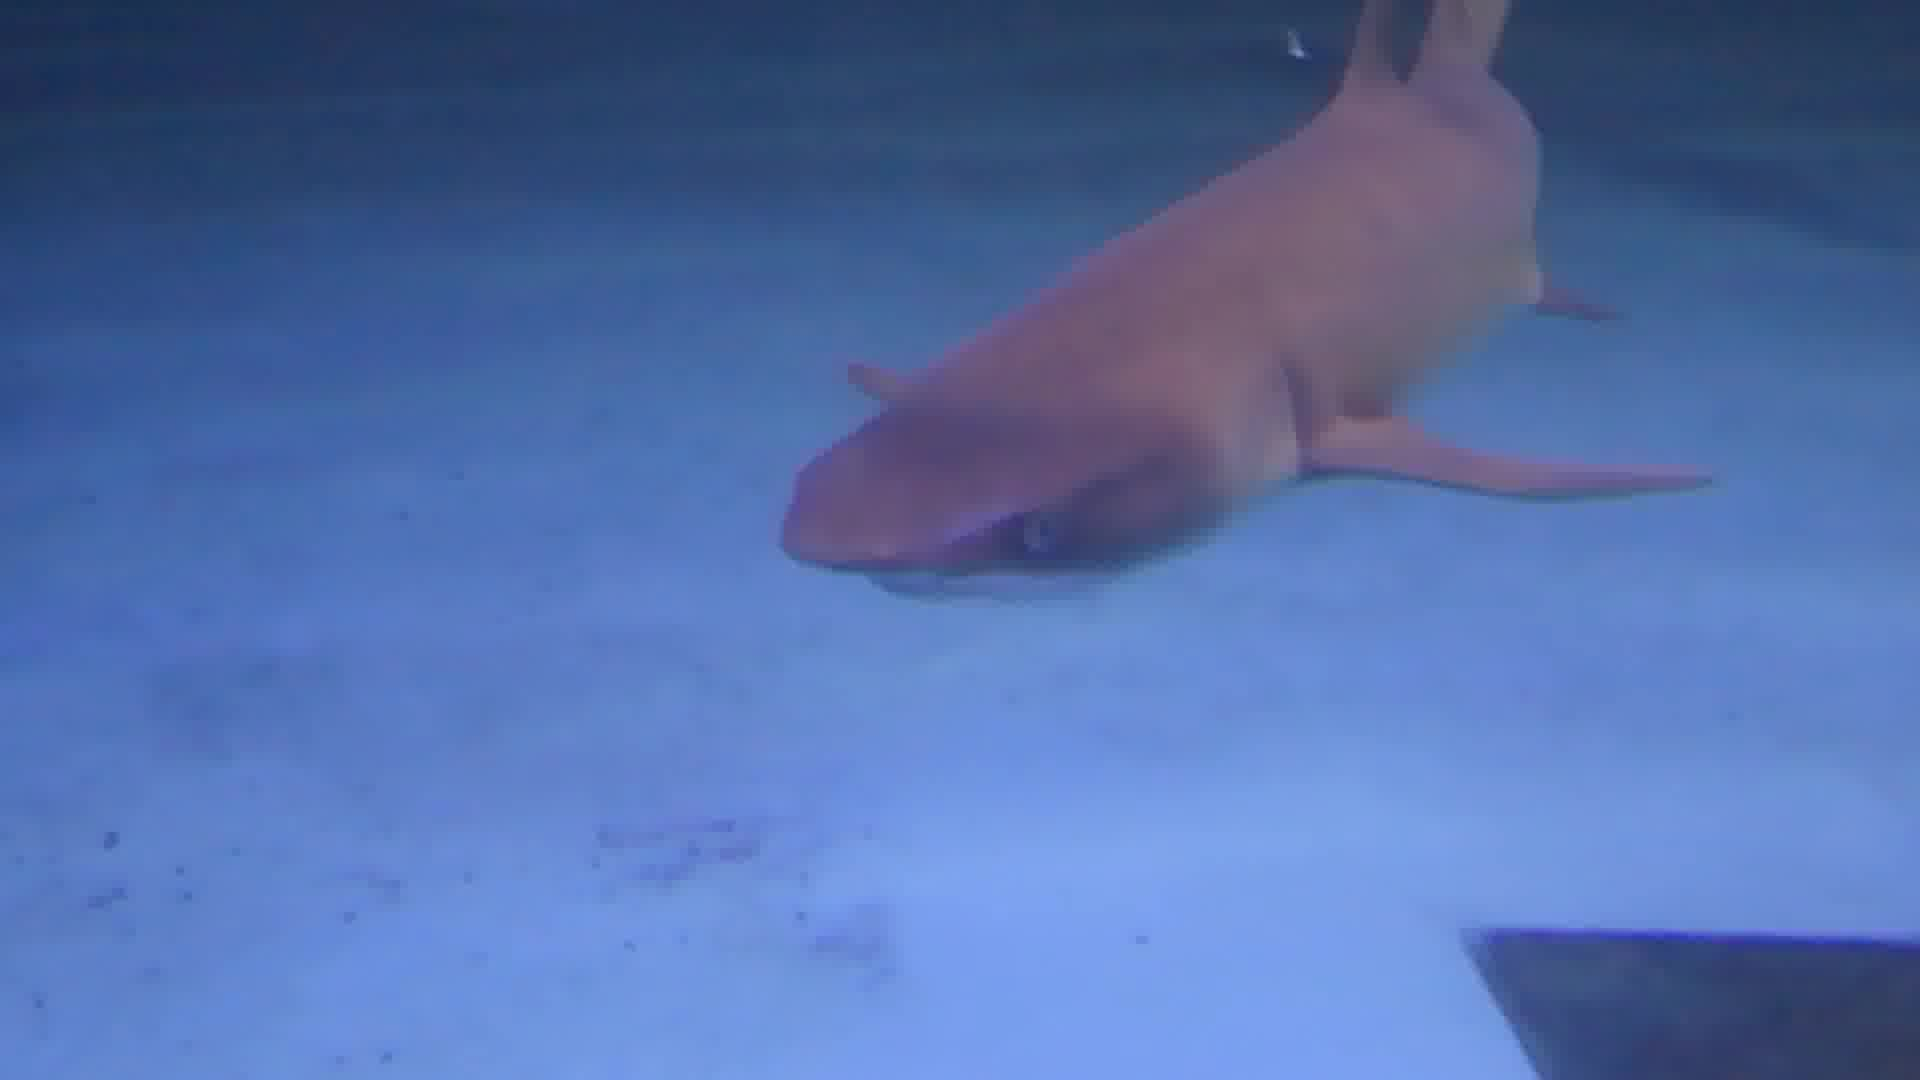Triaenodon obesus: (717, 7, 1741, 604)
